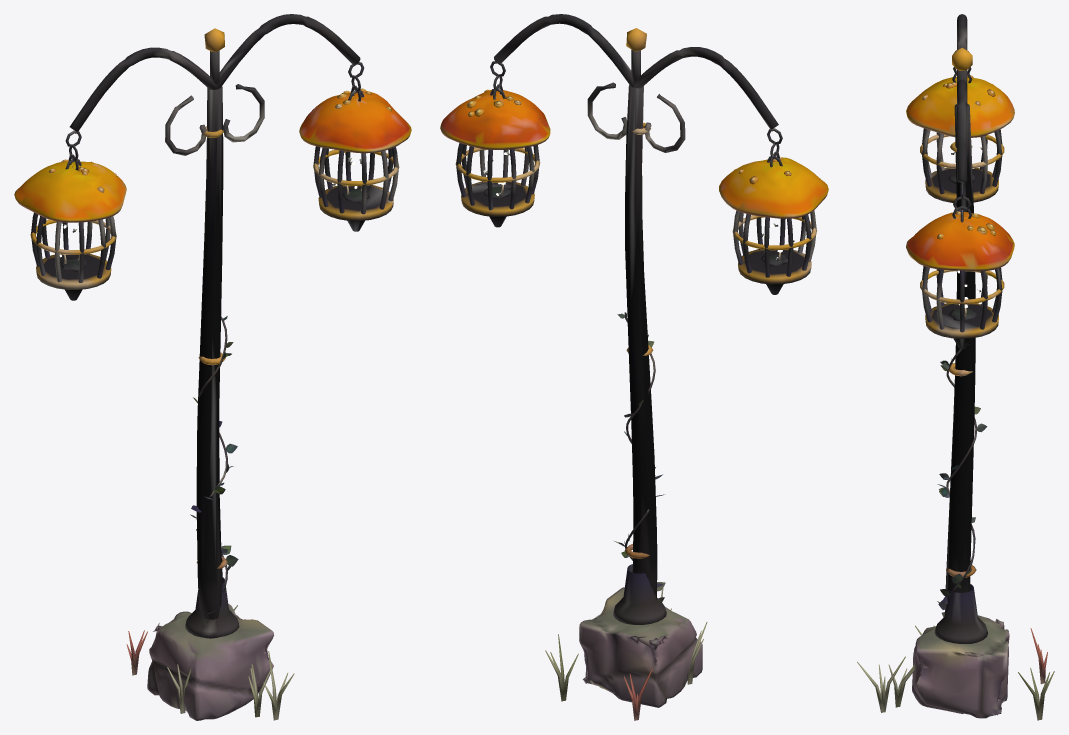
File: lamba_cift.glb
The picture shows the model from 3 angles, left to right: view 1: azimuth 30°, elevation 25°; view 2: azimuth 150°, elevation 25°; view 3: azimuth 270°, elevation 25°; orthographic projection. The views are drawn at different scales.
Parts seen in each view (by area): view 1: lamba_cift_LOD0; view 2: lamba_cift_LOD0; view 3: lamba_cift_LOD0.
Part boxes in pixels (x1,y1,x2,y2): lamba_cift_LOD0: (14, 14, 411, 720); lamba_cift_LOD0: (440, 14, 828, 720); lamba_cift_LOD0: (857, 14, 1054, 720).
Size of what is drawn, in the model's own units: 2.52 by 4.3 by 1.17.
